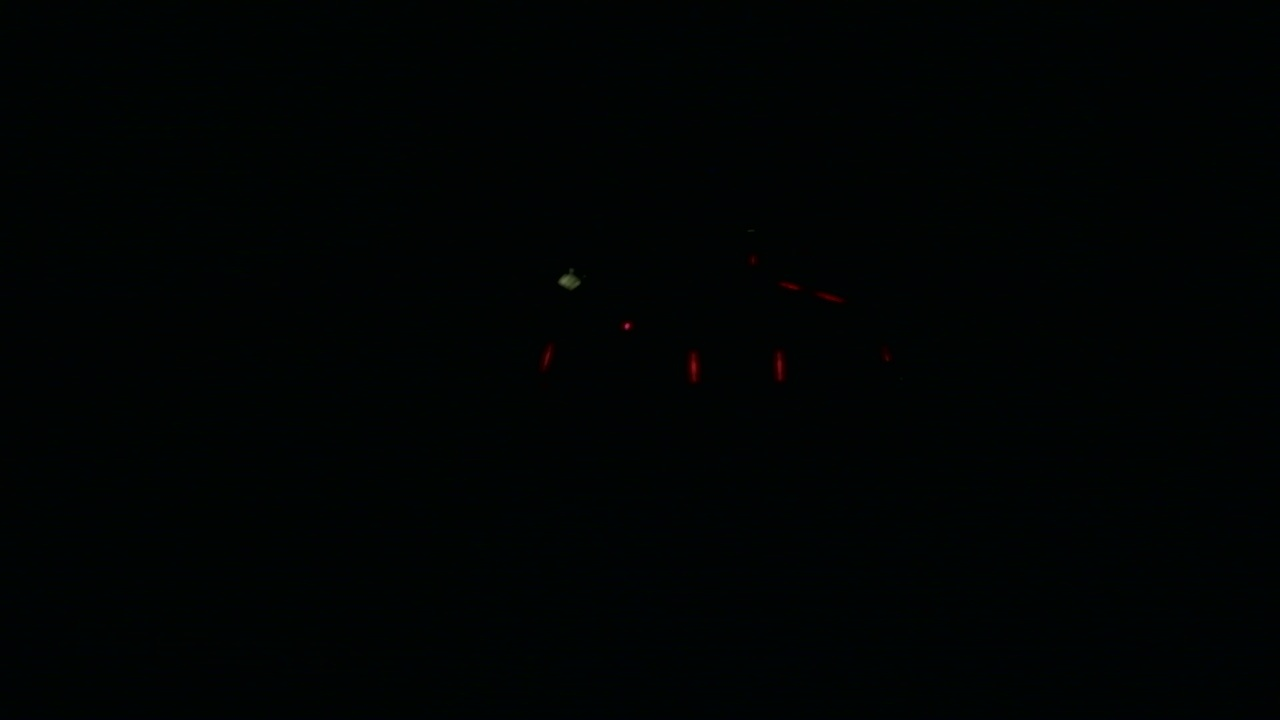lamp: (537, 340, 551, 379), (686, 348, 700, 382), (776, 349, 785, 380)
notpair1: (537, 342, 699, 386)
pair1: (686, 351, 786, 384)
